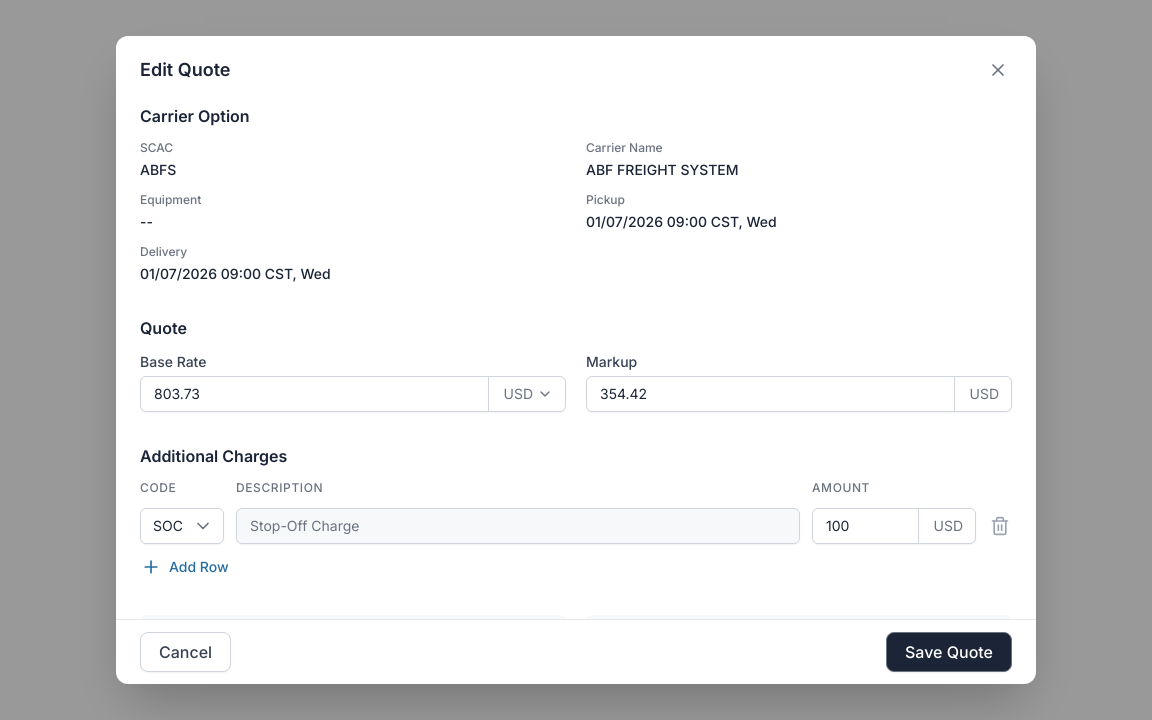
Test: QuoteModal — Currency + Charge Code from the shared lookup (LINX-13895/3966) › Base Rate offers the full CURRENCIES pool, including MXN — the old hardcoded list only had USD/CAD/EUR
The width and height of the screenshot is (1152, 720).
Step 1. Click the button "USD" → x=527, y=394, box [488,377,565,411]
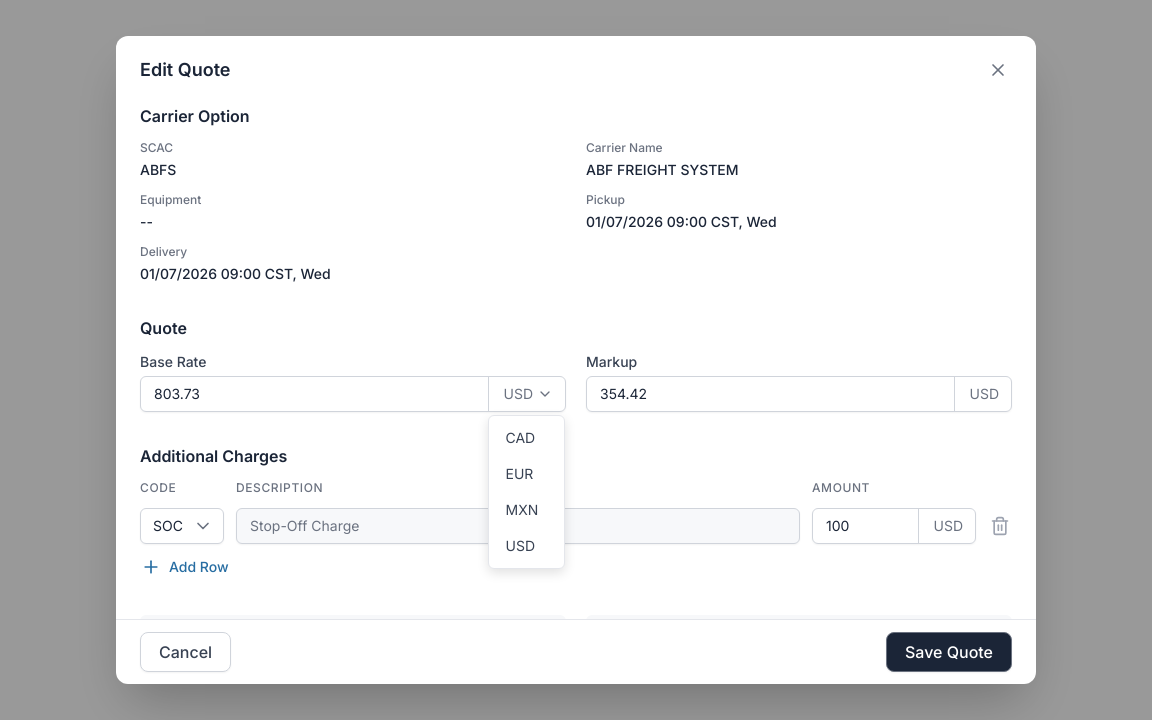
Result: the option "USD" is shown at [490,528,564,564]
Result: the option "CAD" is shown at [490,420,564,456]
Result: the option "EUR" is shown at [490,456,564,492]
